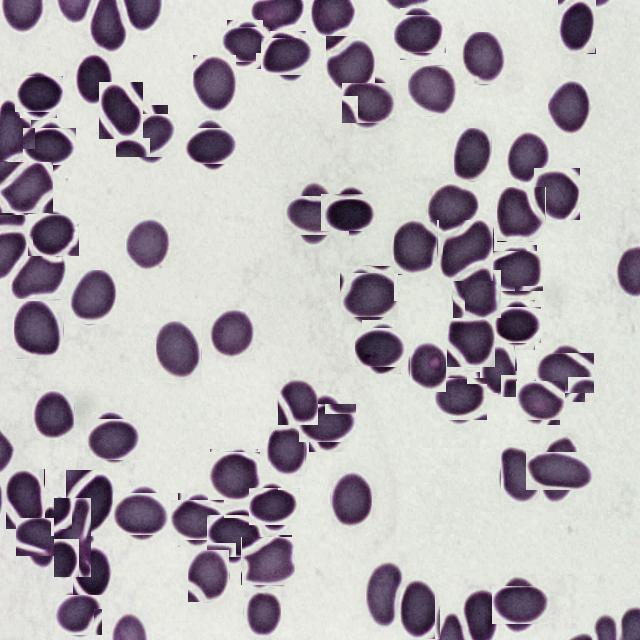red blood cell: (66, 470, 114, 536), (443, 220, 494, 282), (14, 299, 64, 360), (54, 498, 92, 578), (534, 444, 588, 498), (290, 189, 343, 242), (0, 162, 53, 215), (156, 321, 202, 382), (120, 109, 172, 162), (324, 36, 374, 91), (242, 536, 294, 588), (497, 187, 546, 242), (426, 183, 478, 234), (342, 270, 394, 320), (366, 562, 405, 628), (8, 256, 65, 301), (70, 270, 117, 324), (99, 82, 143, 139), (400, 579, 441, 640), (209, 450, 259, 500), (211, 510, 261, 560), (540, 348, 590, 398), (408, 66, 458, 116), (193, 55, 236, 112), (116, 489, 166, 538), (447, 318, 496, 368), (21, 512, 70, 562), (394, 220, 438, 275), (6, 468, 45, 530), (534, 168, 580, 220), (461, 32, 506, 85), (452, 270, 501, 318), (126, 217, 170, 270), (174, 496, 222, 544), (304, 399, 352, 447), (437, 374, 485, 422), (497, 581, 545, 629), (88, 415, 136, 463), (548, 80, 590, 134), (331, 472, 372, 527), (188, 550, 230, 603), (501, 447, 540, 504), (493, 248, 540, 295), (30, 212, 77, 259), (326, 189, 373, 236), (344, 80, 392, 126), (358, 324, 405, 370), (211, 309, 254, 359), (508, 132, 549, 184), (73, 546, 113, 599), (27, 124, 72, 170), (75, 52, 113, 106), (454, 128, 492, 182), (558, 0, 596, 54), (264, 34, 308, 79), (397, 12, 442, 56), (480, 346, 518, 398), (34, 391, 74, 440), (252, 484, 296, 528), (518, 378, 562, 422), (189, 124, 233, 168), (57, 593, 101, 637), (17, 72, 60, 116), (268, 427, 306, 476), (278, 379, 318, 425), (410, 342, 446, 392), (244, 590, 281, 638), (496, 304, 538, 346), (224, 24, 266, 66)
